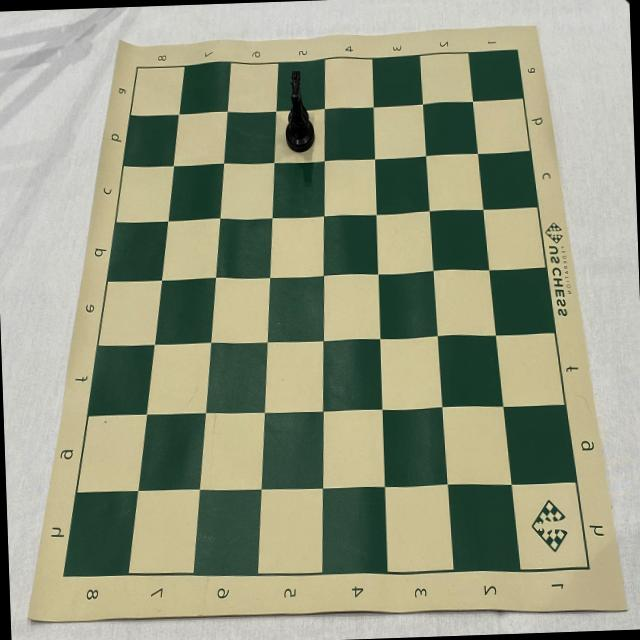black-knight: (282, 68, 316, 153)
